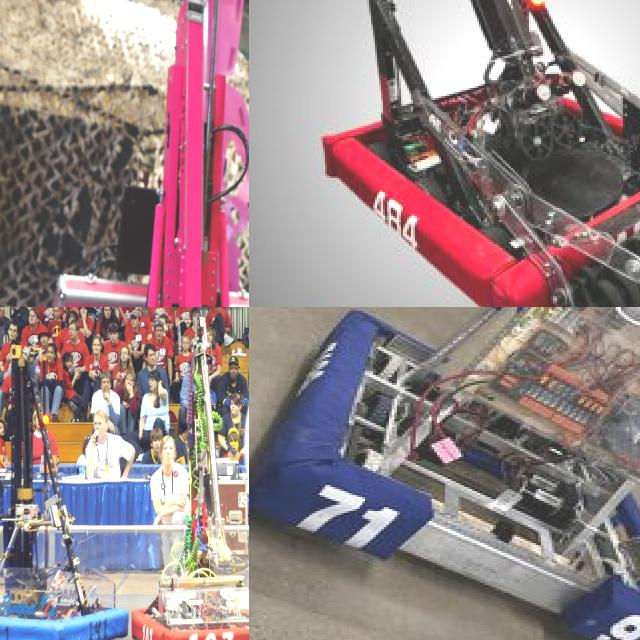FRC-Robots: (249, 307, 640, 640), (286, 0, 640, 307), (0, 0, 249, 307), (128, 309, 249, 640), (0, 346, 126, 640)
